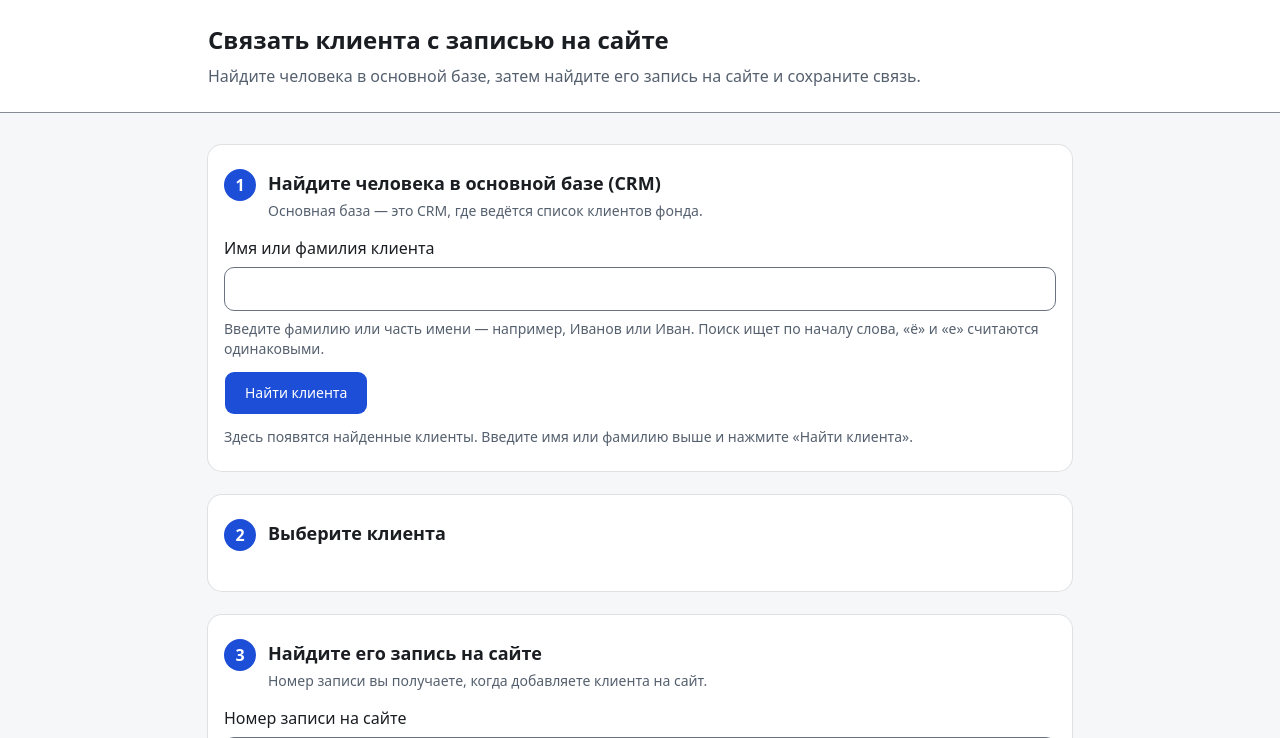
it: поиск клиента в основной базе › не отправляет запрос на пустое поле и объясняет, что вводить
The width and height of the screenshot is (1280, 738).
Step 1. Click the button "Найти клиента" → (296, 393), box [224,371,368,415]
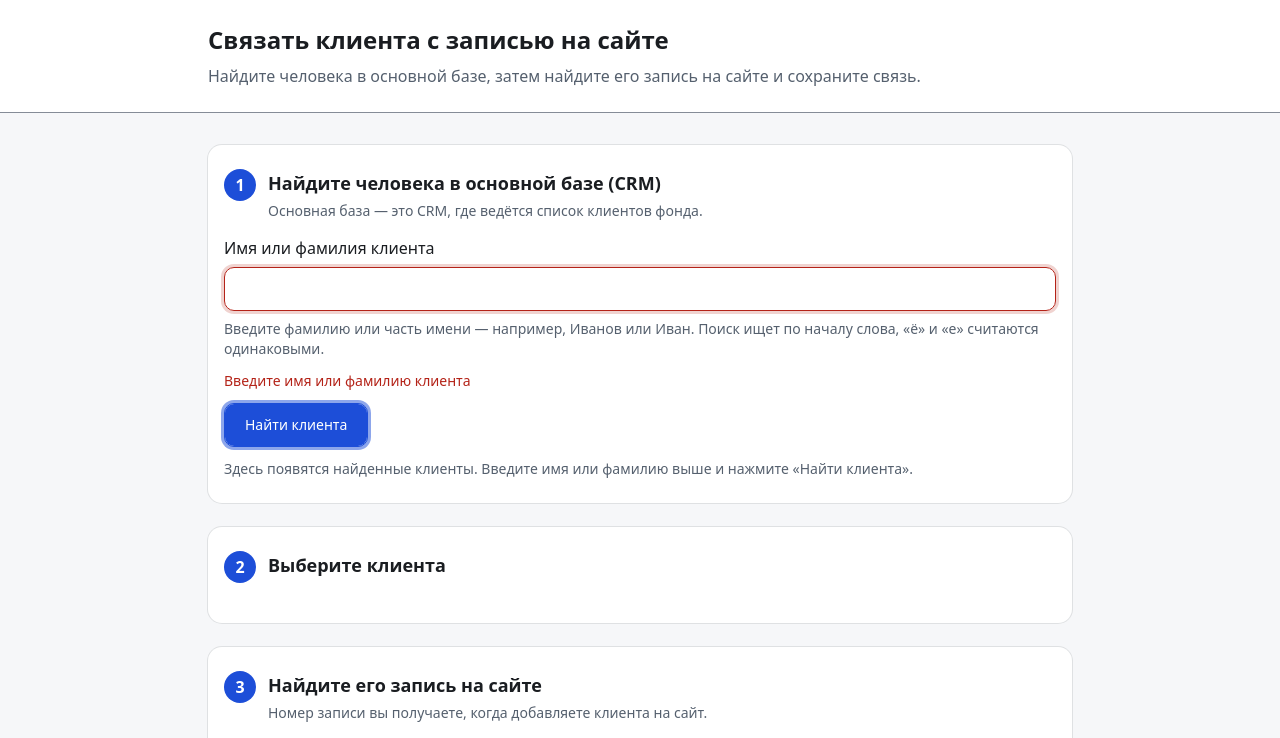
Check: the text "Введите имя или фамилию клиента" is shown, box [224,371,471,390]
